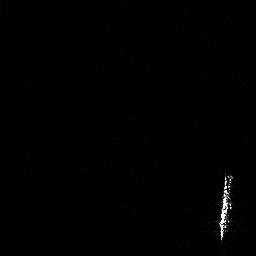ship: (215, 170, 236, 243)
